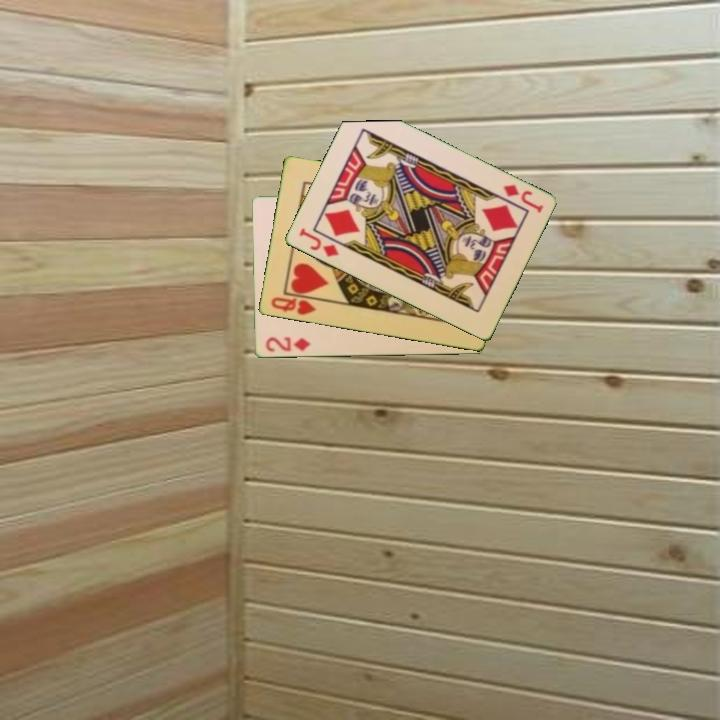2d: (262, 333, 313, 355)
Jd: (295, 225, 342, 260), (499, 181, 546, 216)
Qh: (267, 294, 318, 318)
